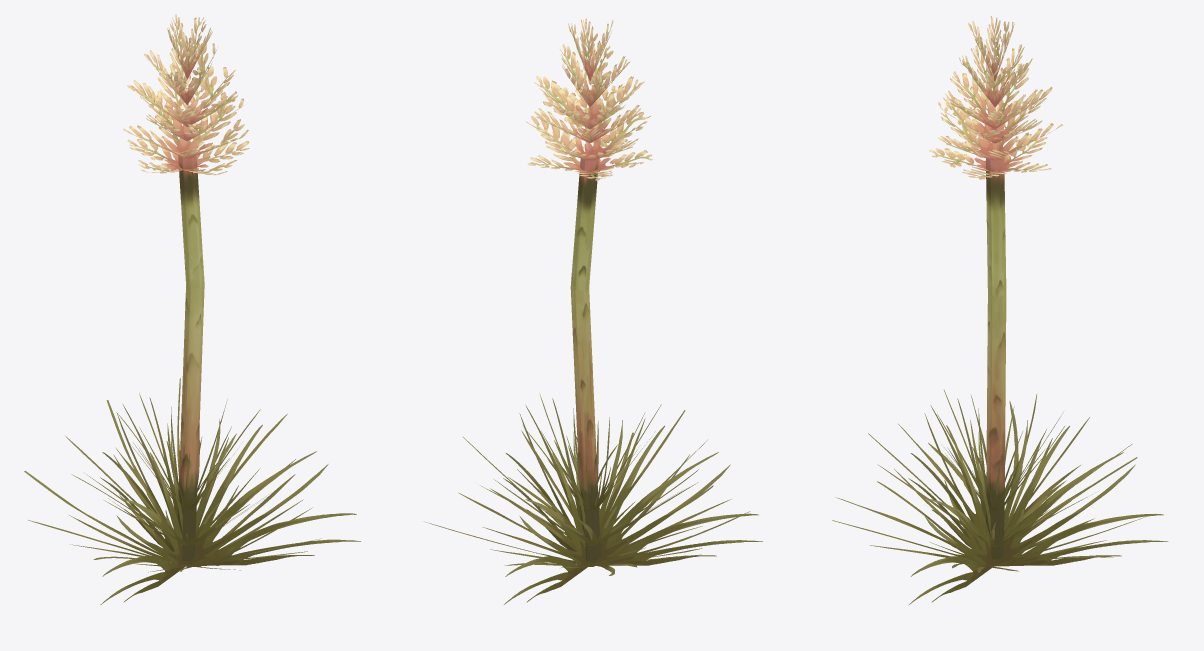
The model's file is plant-1.glb.
The picture shows the model from 3 angles, left to right: view 1: azimuth 30°, elevation 25°; view 2: azimuth 150°, elevation 25°; view 3: azimuth 270°, elevation 25°; orthographic projection.
Parts seen in each view (by area): view 1: yucca.bush_Material.001_0; view 2: yucca.bush_Material.001_0; view 3: yucca.bush_Material.001_0.
Boxes of the visible parts, bbox=[...] form: yucca.bush_Material.001_0: bbox=[24, 14, 360, 604]; yucca.bush_Material.001_0: bbox=[424, 18, 762, 604]; yucca.bush_Material.001_0: bbox=[832, 16, 1168, 604].
Bounding box in the file's own units: 0.608 × 1 × 0.6295.
Materials: 1 (1 with a texture image).
